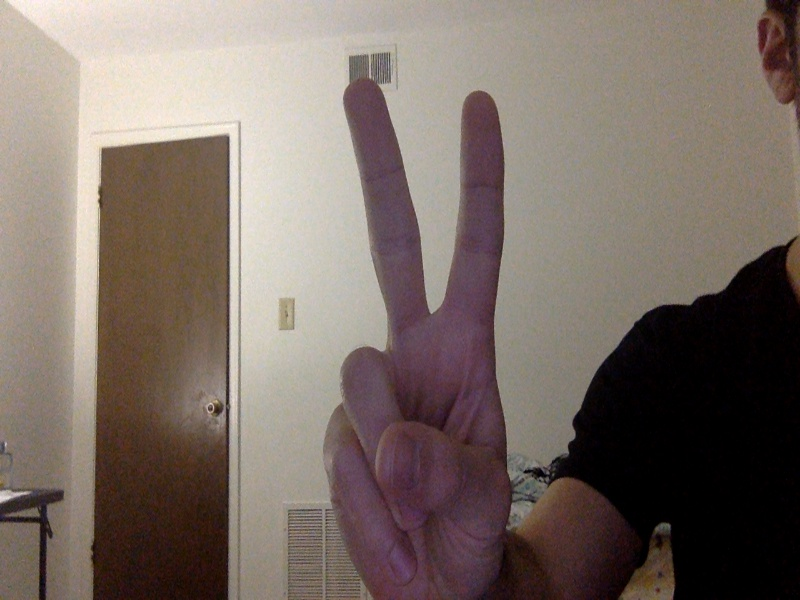2-hand: (324, 79, 514, 600)
